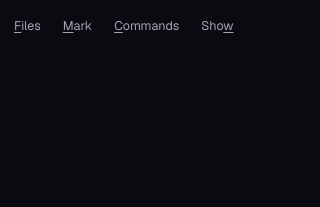
MenuBar › renders four named buttons and registry-ordered menu items with shortcut and disabled reason
This screenshot has width=320, height=207.
Click the menu item "Files": (27, 26) [4,12,51,40]
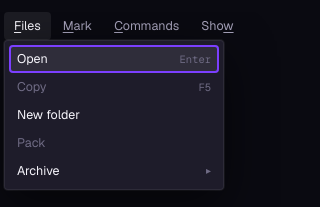
expect the menu item "Files" is expanded: met, box [4,12,51,40]
